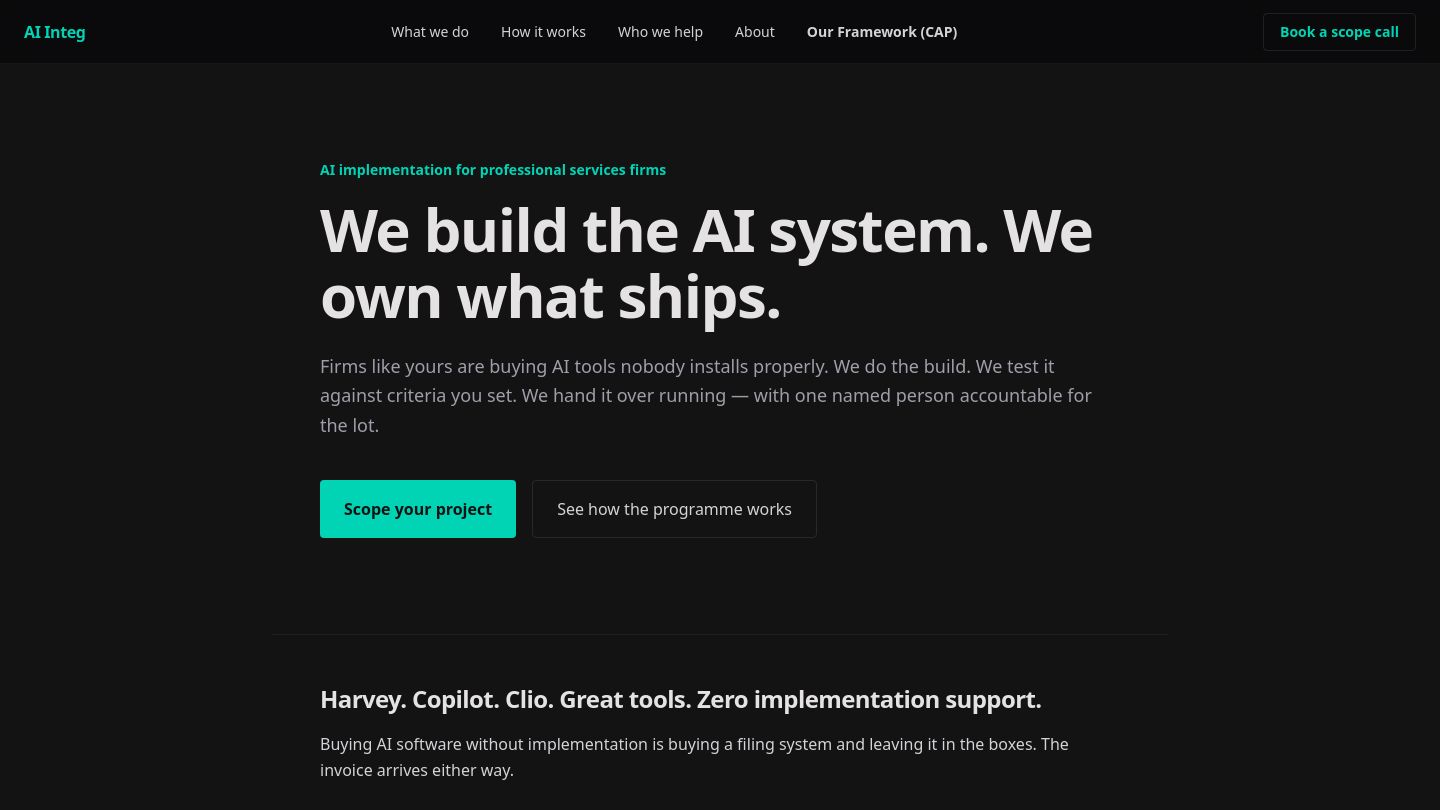
Test: App › consent line is plain English and links to the privacy notice
Click the button "Scope your project" at (418,509), box [320,480,516,538]
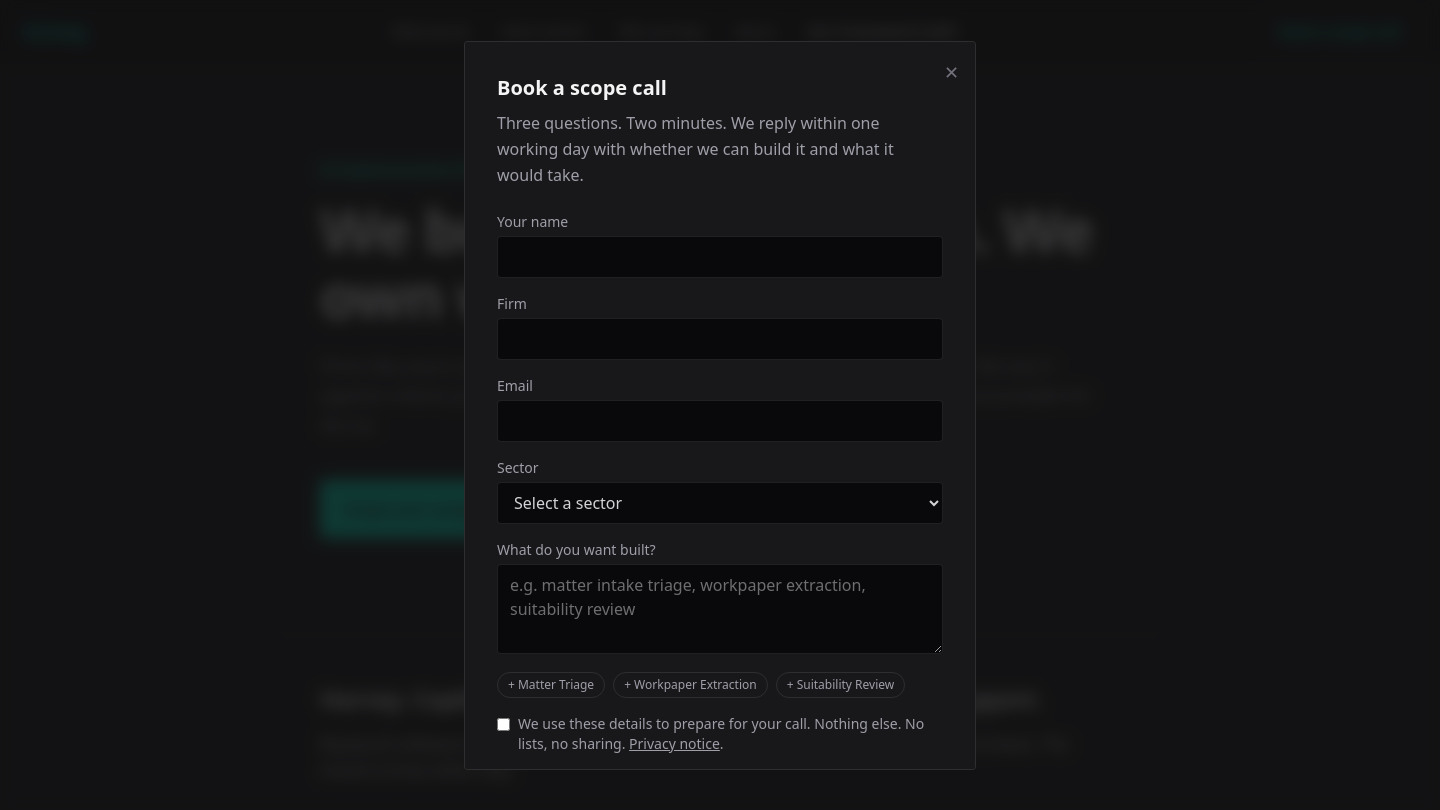
Check: the text "We use these details to prepare for your call. Nothing else." is shown, box [518,714,924,752]
